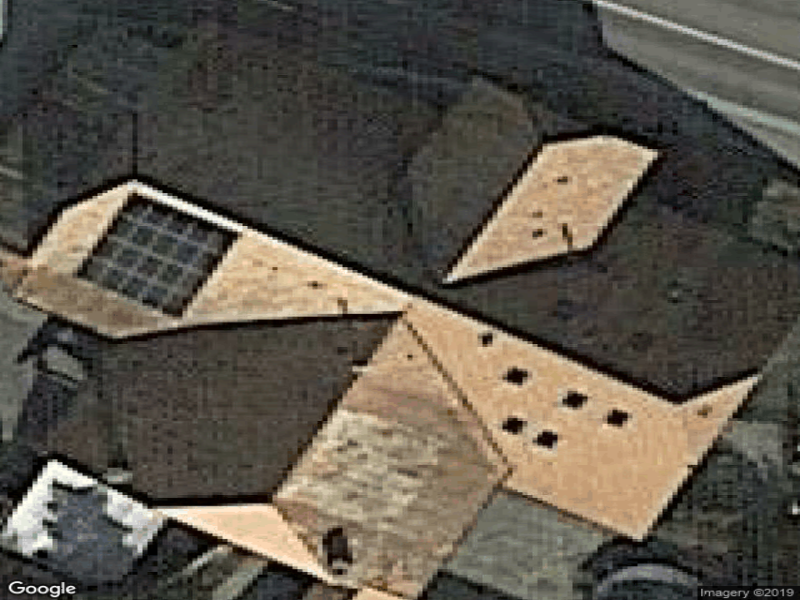pv: (75, 195, 241, 321)
